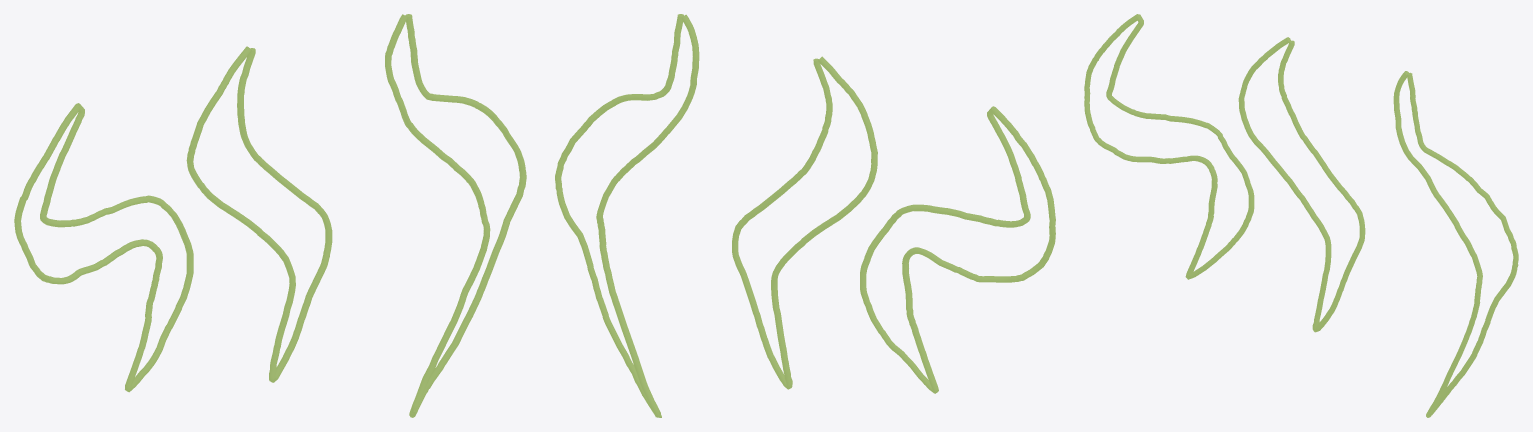
Rendered from gash_primary.glb.
The picture shows the model from 3 angles, left to right: view 1: azimuth 30°, elevation 25°; view 2: azimuth 150°, elevation 25°; view 3: azimuth 330°, elevation 25°; orthographic projection. The views are drawn at different scales.
Visible parts, largest first — view 1: primary; view 2: primary; view 3: primary.
Part boxes in pixels (x1,y1,x2,y2): primary: (14,14,526,417); primary: (555,14,1055,417); primary: (1084,14,1518,417).
Size of the model in its own units: 0.0363 by 0.0279 by 0.0024.
